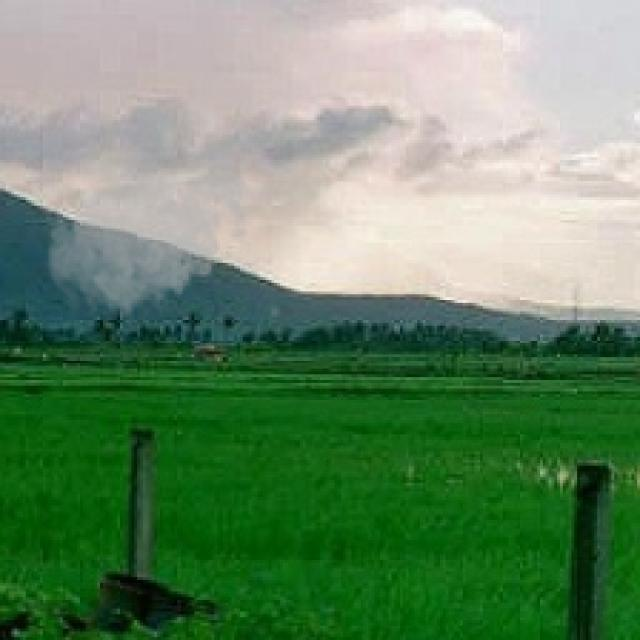smoke: (40, 100, 263, 326)
